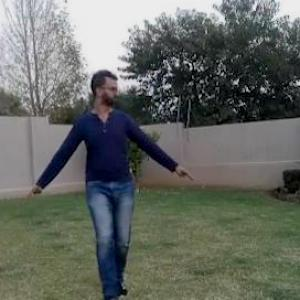land: (19, 68, 194, 299)
